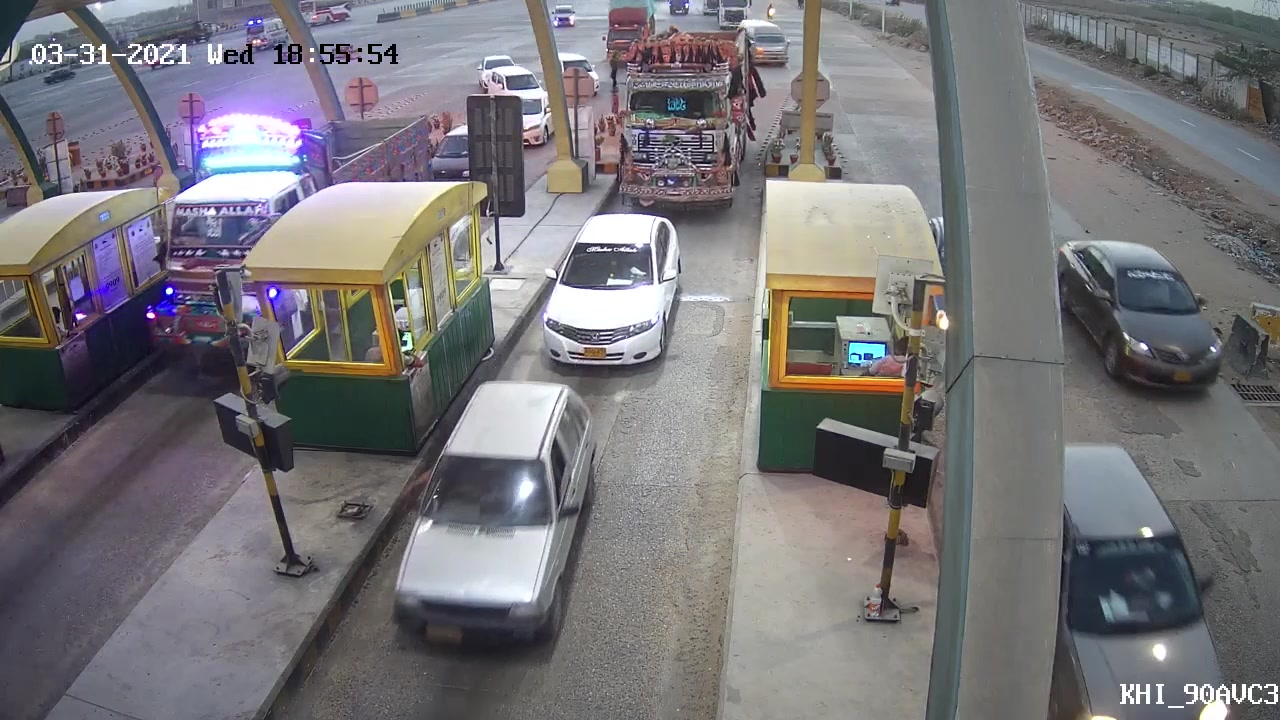F1: (535, 211, 681, 374)
F5: (607, 30, 759, 208)
